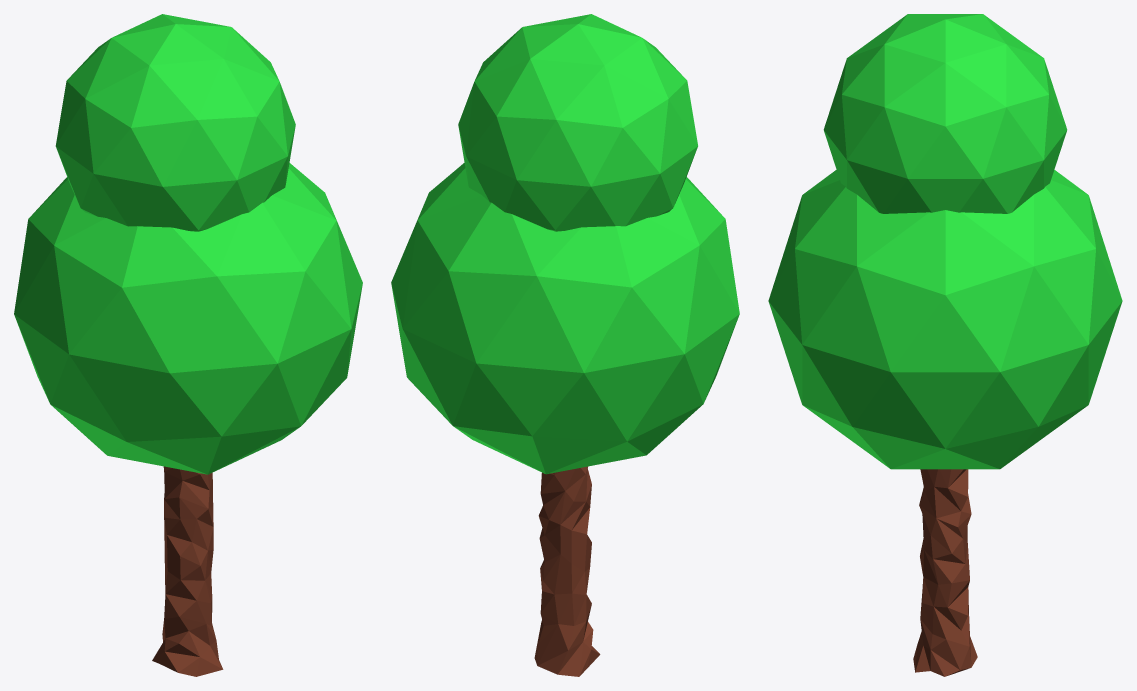
The model's file is Tree.fbx.
The picture shows the model from 3 angles, left to right: view 1: azimuth 30°, elevation 25°; view 2: azimuth 150°, elevation 25°; view 3: azimuth 270°, elevation 25°; orthographic projection.
Parts seen in each view (by area): view 1: Tree; view 2: Tree; view 3: Tree.
Part boxes in pixels (left/top/right/bottom): Tree: left=14, top=14, right=362, bottom=676; Tree: left=391, top=14, right=739, bottom=676; Tree: left=768, top=14, right=1122, bottom=676.
Bounding box in the file's own units: 6.47 × 13.51 × 6.8.
